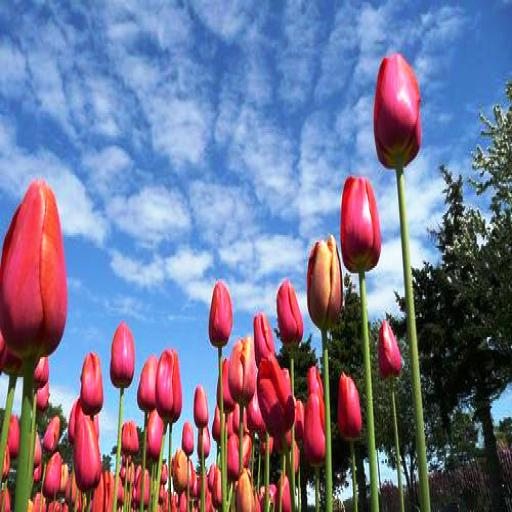tulip: (1, 181, 66, 357), (373, 53, 423, 171), (339, 173, 382, 273), (308, 235, 342, 326), (157, 344, 182, 418), (76, 414, 101, 488), (276, 277, 302, 344), (111, 317, 136, 386), (229, 335, 256, 397), (208, 277, 232, 344), (340, 370, 362, 437), (81, 350, 104, 410), (381, 320, 403, 382)
